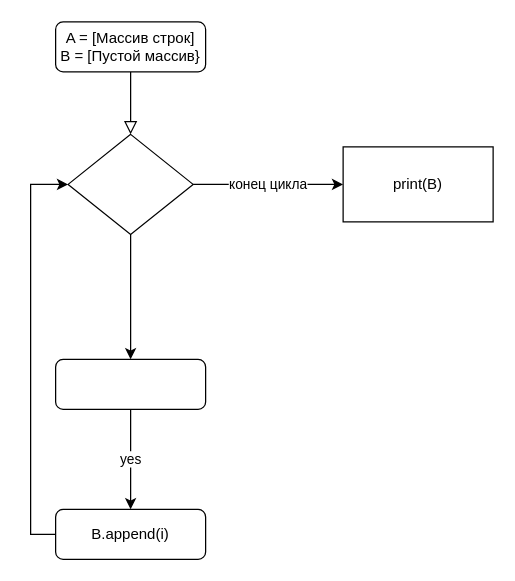
Some shapes in this 515 by 581 pixel diagram are drawn without their labels. Here are the shapes that lost their labels. From the top down, the box of each, then its label:
(67, 133, 193, 234): For i in a
(54, 358, 206, 409): Len(i) <= 3
